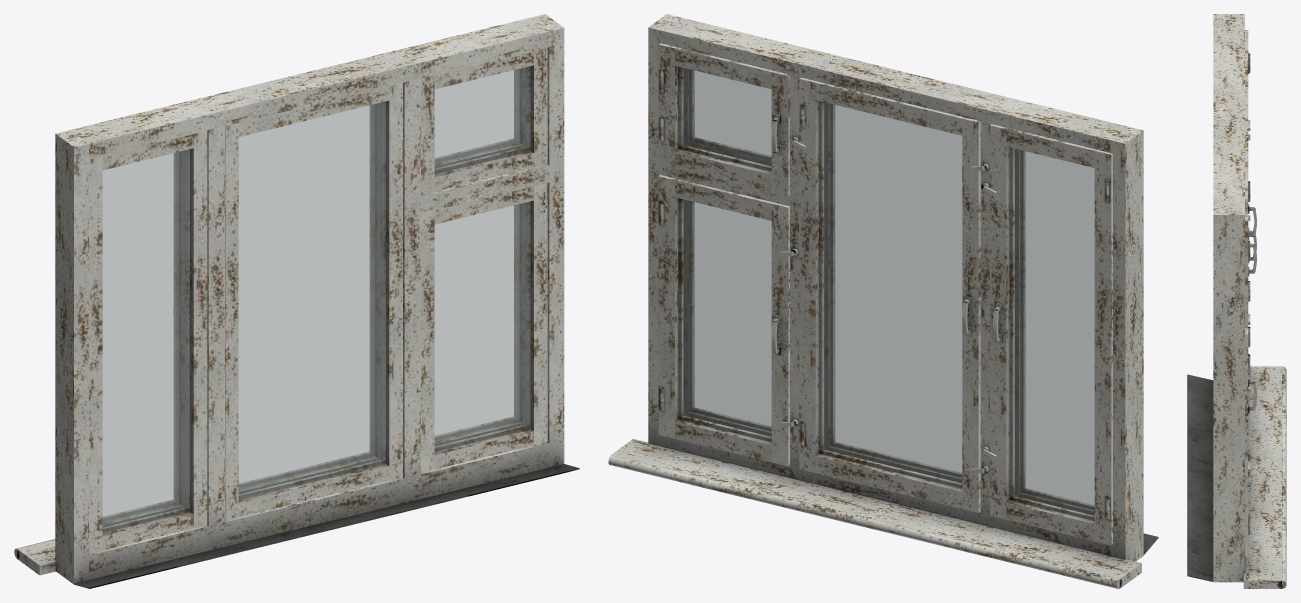
Rendered from win_3_fort_left_web.glb.
The picture shows the model from 3 angles, left to right: view 1: azimuth 30°, elevation 25°; view 2: azimuth 150°, elevation 25°; view 3: azimuth 270°, elevation 25°; orthographic projection. The views are drawn at different scales.
Parts seen in each view (by area): view 1: Win3FortLeft_Body, Glass_Sash_C_out, Glass_Sash_C_in, Glass_Sash_R_out, Glass_Sash_R_in, Sash_C_Mesh, Sash_R_Mesh, Glass_Sash_L_out, Glass_Sash_L_in, Sash_L_Mesh, Fort_L_Mesh, Glass_Fort_L_out (+1 smaller); view 2: Win3FortLeft_Body, Glass_Sash_C_in, Glass_Sash_C_out, Sash_C_Mesh, Glass_Sash_R_in, Sash_R_Mesh, Glass_Sash_R_out, Glass_Sash_L_in, Sash_L_Mesh, Glass_Sash_L_out, Fort_L_Mesh, Glass_Fort_L_in (+1 smaller); view 3: Win3FortLeft_Body, Sash_L_Mesh, Fort_L_Mesh, Sash_C_Mesh, Sash_R_Mesh.
Boxes of the visible parts, x1,y1,x2,y2 form: Win3FortLeft_Body: (14, 14, 579, 588); Glass_Sash_C_out: (239, 102, 385, 499); Glass_Sash_C_in: (239, 105, 374, 488); Glass_Sash_R_out: (103, 149, 189, 532); Glass_Sash_R_in: (103, 153, 178, 521); Sash_C_Mesh: (225, 83, 402, 520); Sash_R_Mesh: (89, 130, 207, 553); Glass_Sash_L_out: (435, 202, 530, 451); Glass_Sash_L_in: (435, 204, 519, 440); Sash_L_Mesh: (421, 183, 547, 472); Fort_L_Mesh: (421, 47, 547, 194); Glass_Fort_L_out: (435, 66, 530, 173); Win3FortLeft_Body: (608, 14, 1158, 588); Glass_Sash_C_in: (824, 102, 961, 482); Glass_Sash_C_out: (835, 105, 961, 472); Sash_C_Mesh: (799, 77, 980, 512); Glass_Sash_R_in: (1015, 149, 1094, 515); Sash_R_Mesh: (990, 124, 1112, 545); Glass_Sash_R_out: (1025, 152, 1094, 504); Glass_Sash_L_in: (683, 200, 771, 436); Sash_L_Mesh: (658, 175, 789, 466); Glass_Sash_L_out: (694, 202, 771, 425); Fort_L_Mesh: (658, 43, 789, 195); Glass_Fort_L_in: (683, 68, 771, 165); Win3FortLeft_Body: (1187, 14, 1286, 588); Sash_L_Mesh: (1245, 324, 1256, 557); Fort_L_Mesh: (1245, 166, 1256, 324); Sash_C_Mesh: (1245, 86, 1256, 475); Sash_R_Mesh: (1245, 30, 1256, 347).
Bounding box in the file's own units: 1.92 × 1.54 × 0.3765.
2 materials, 1 textured.
